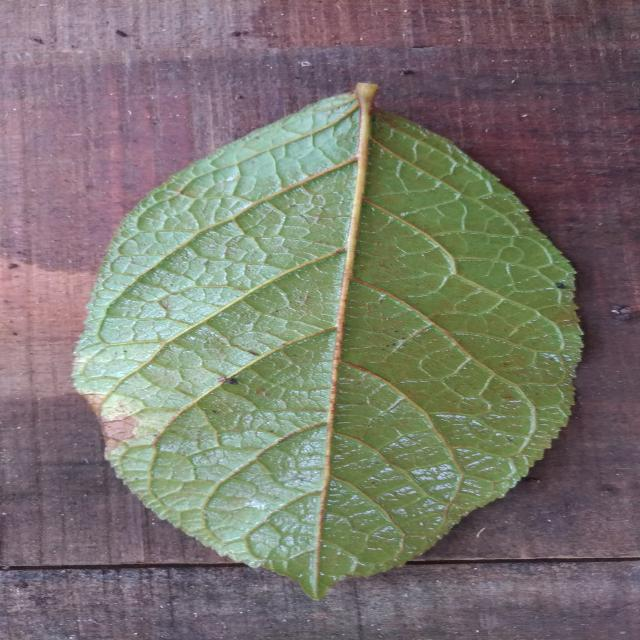padri: (73, 84, 582, 598)
